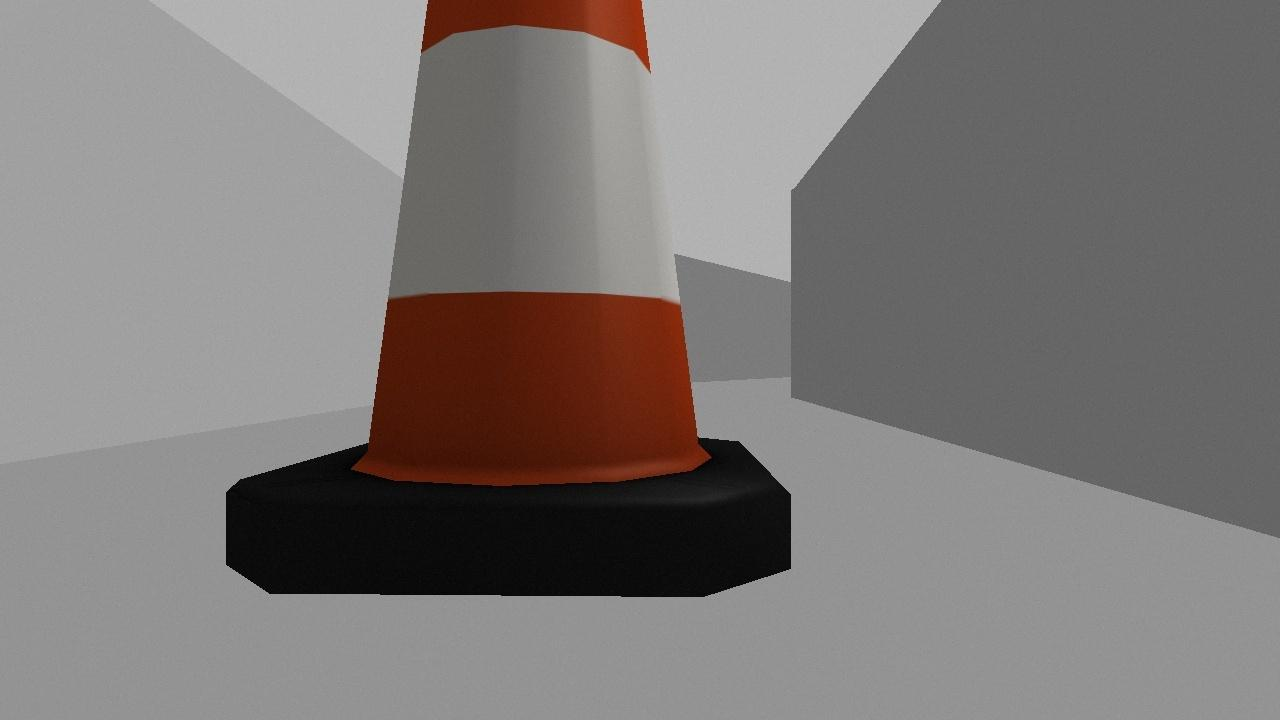cone_barrel: (185, 0, 847, 617)
